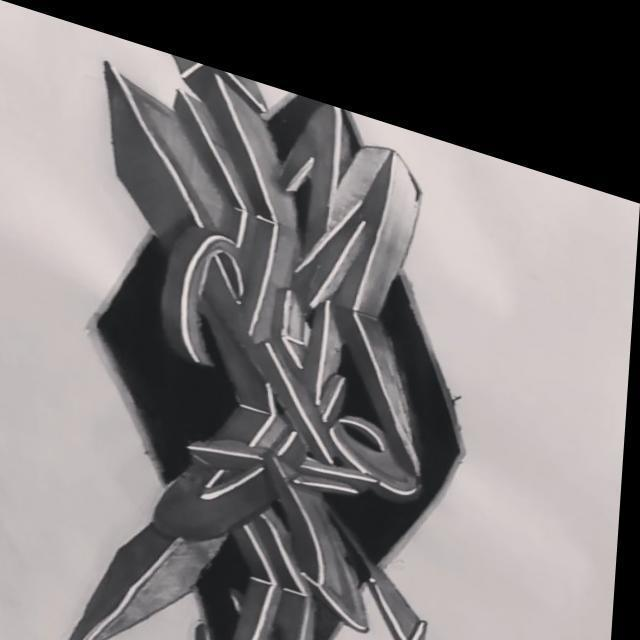-: (40, 19, 578, 640)
